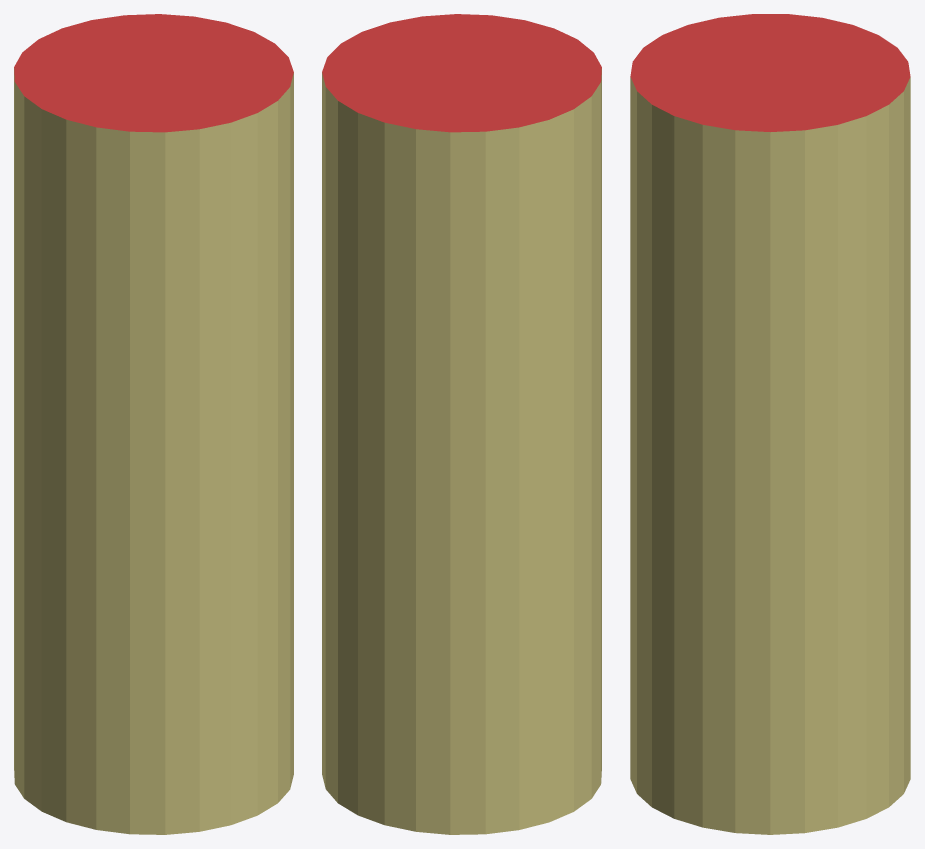
The picture shows the model from 3 angles, left to right: view 1: azimuth 30°, elevation 25°; view 2: azimuth 150°, elevation 25°; view 3: azimuth 270°, elevation 25°; orthographic projection.
Size of the model in its own units: 3.32 by 3.32 by 9.2.
